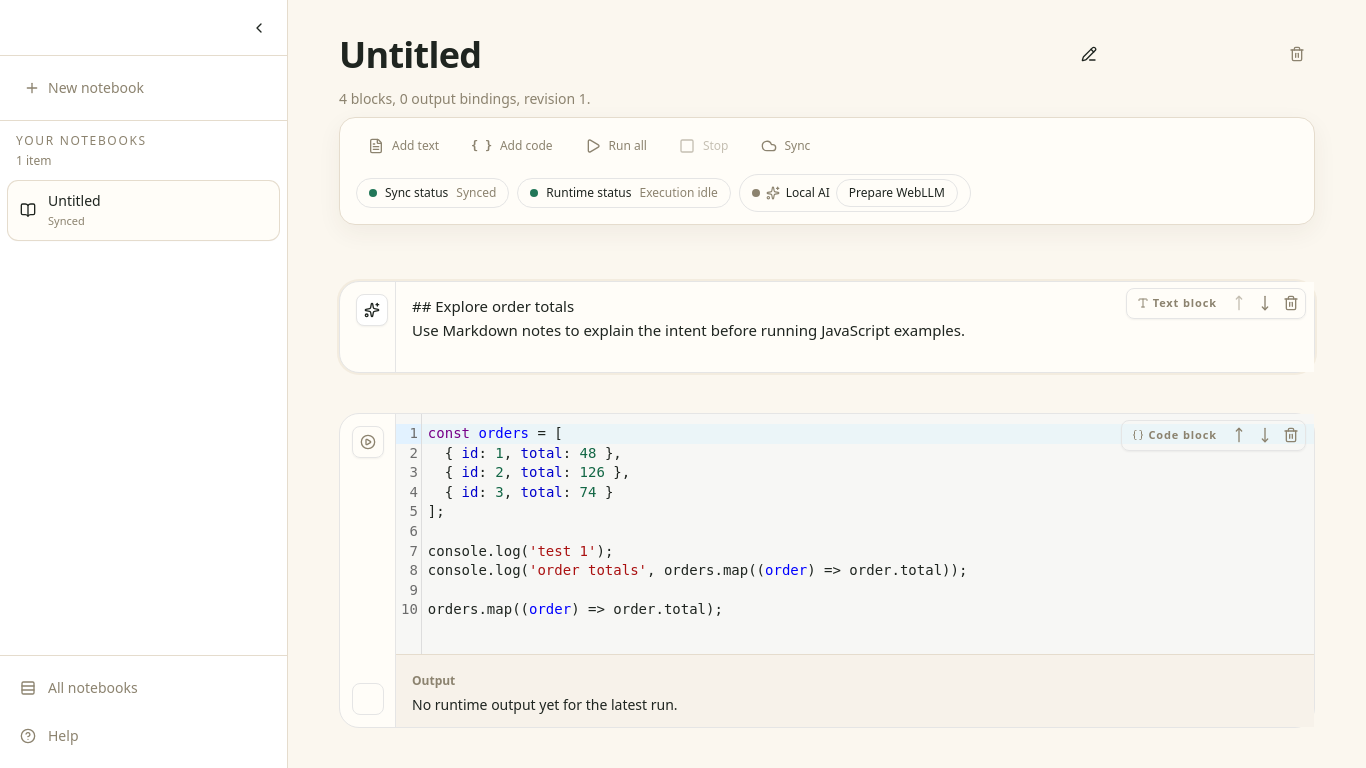
NotebookEditorPage › shows normalized backend error state without mutating the source text block
Click the button named "Generate code from blk_intro": x=372, y=310 x1=356 y1=294 x2=388 y2=326
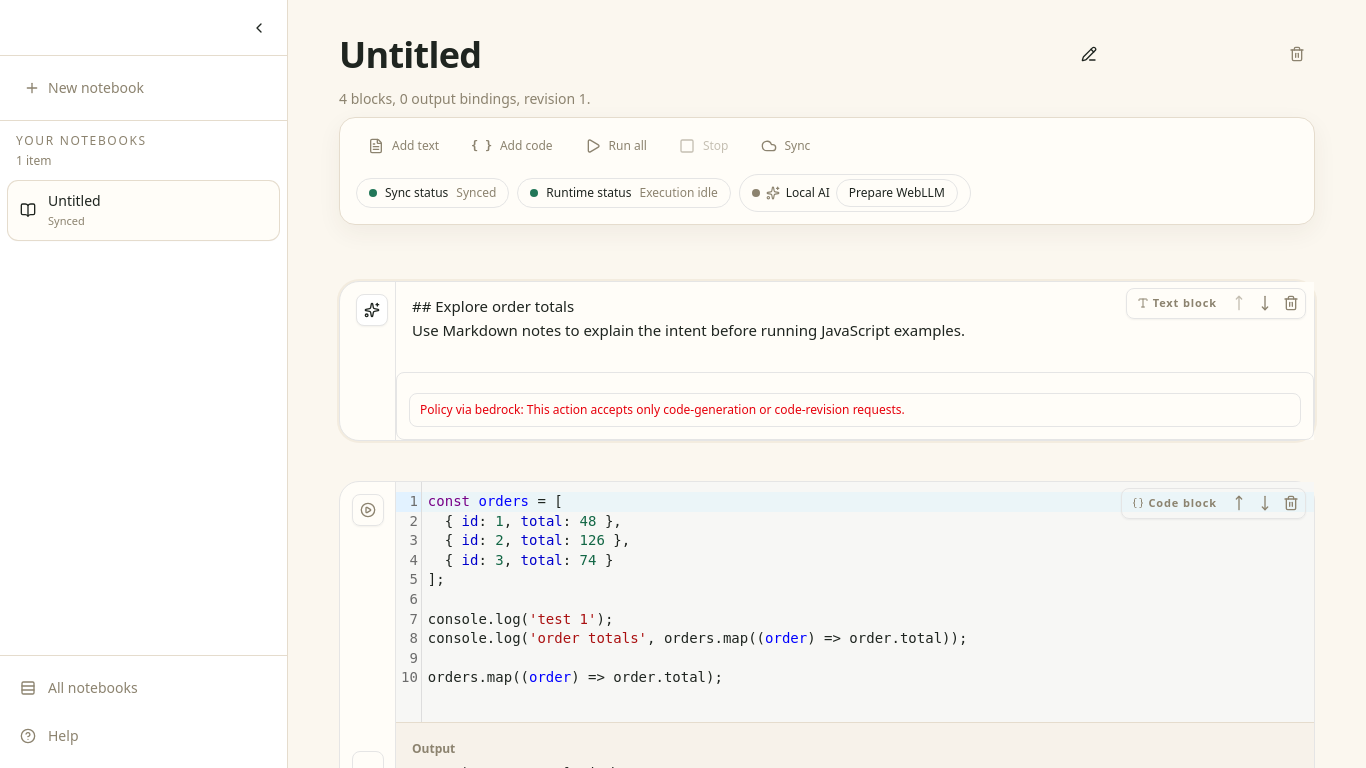
expect the message shows "Policy via bedrock: This action accepts only code-generation or code-revision requests.": met, box x1=420 y1=401 x2=905 y2=418
